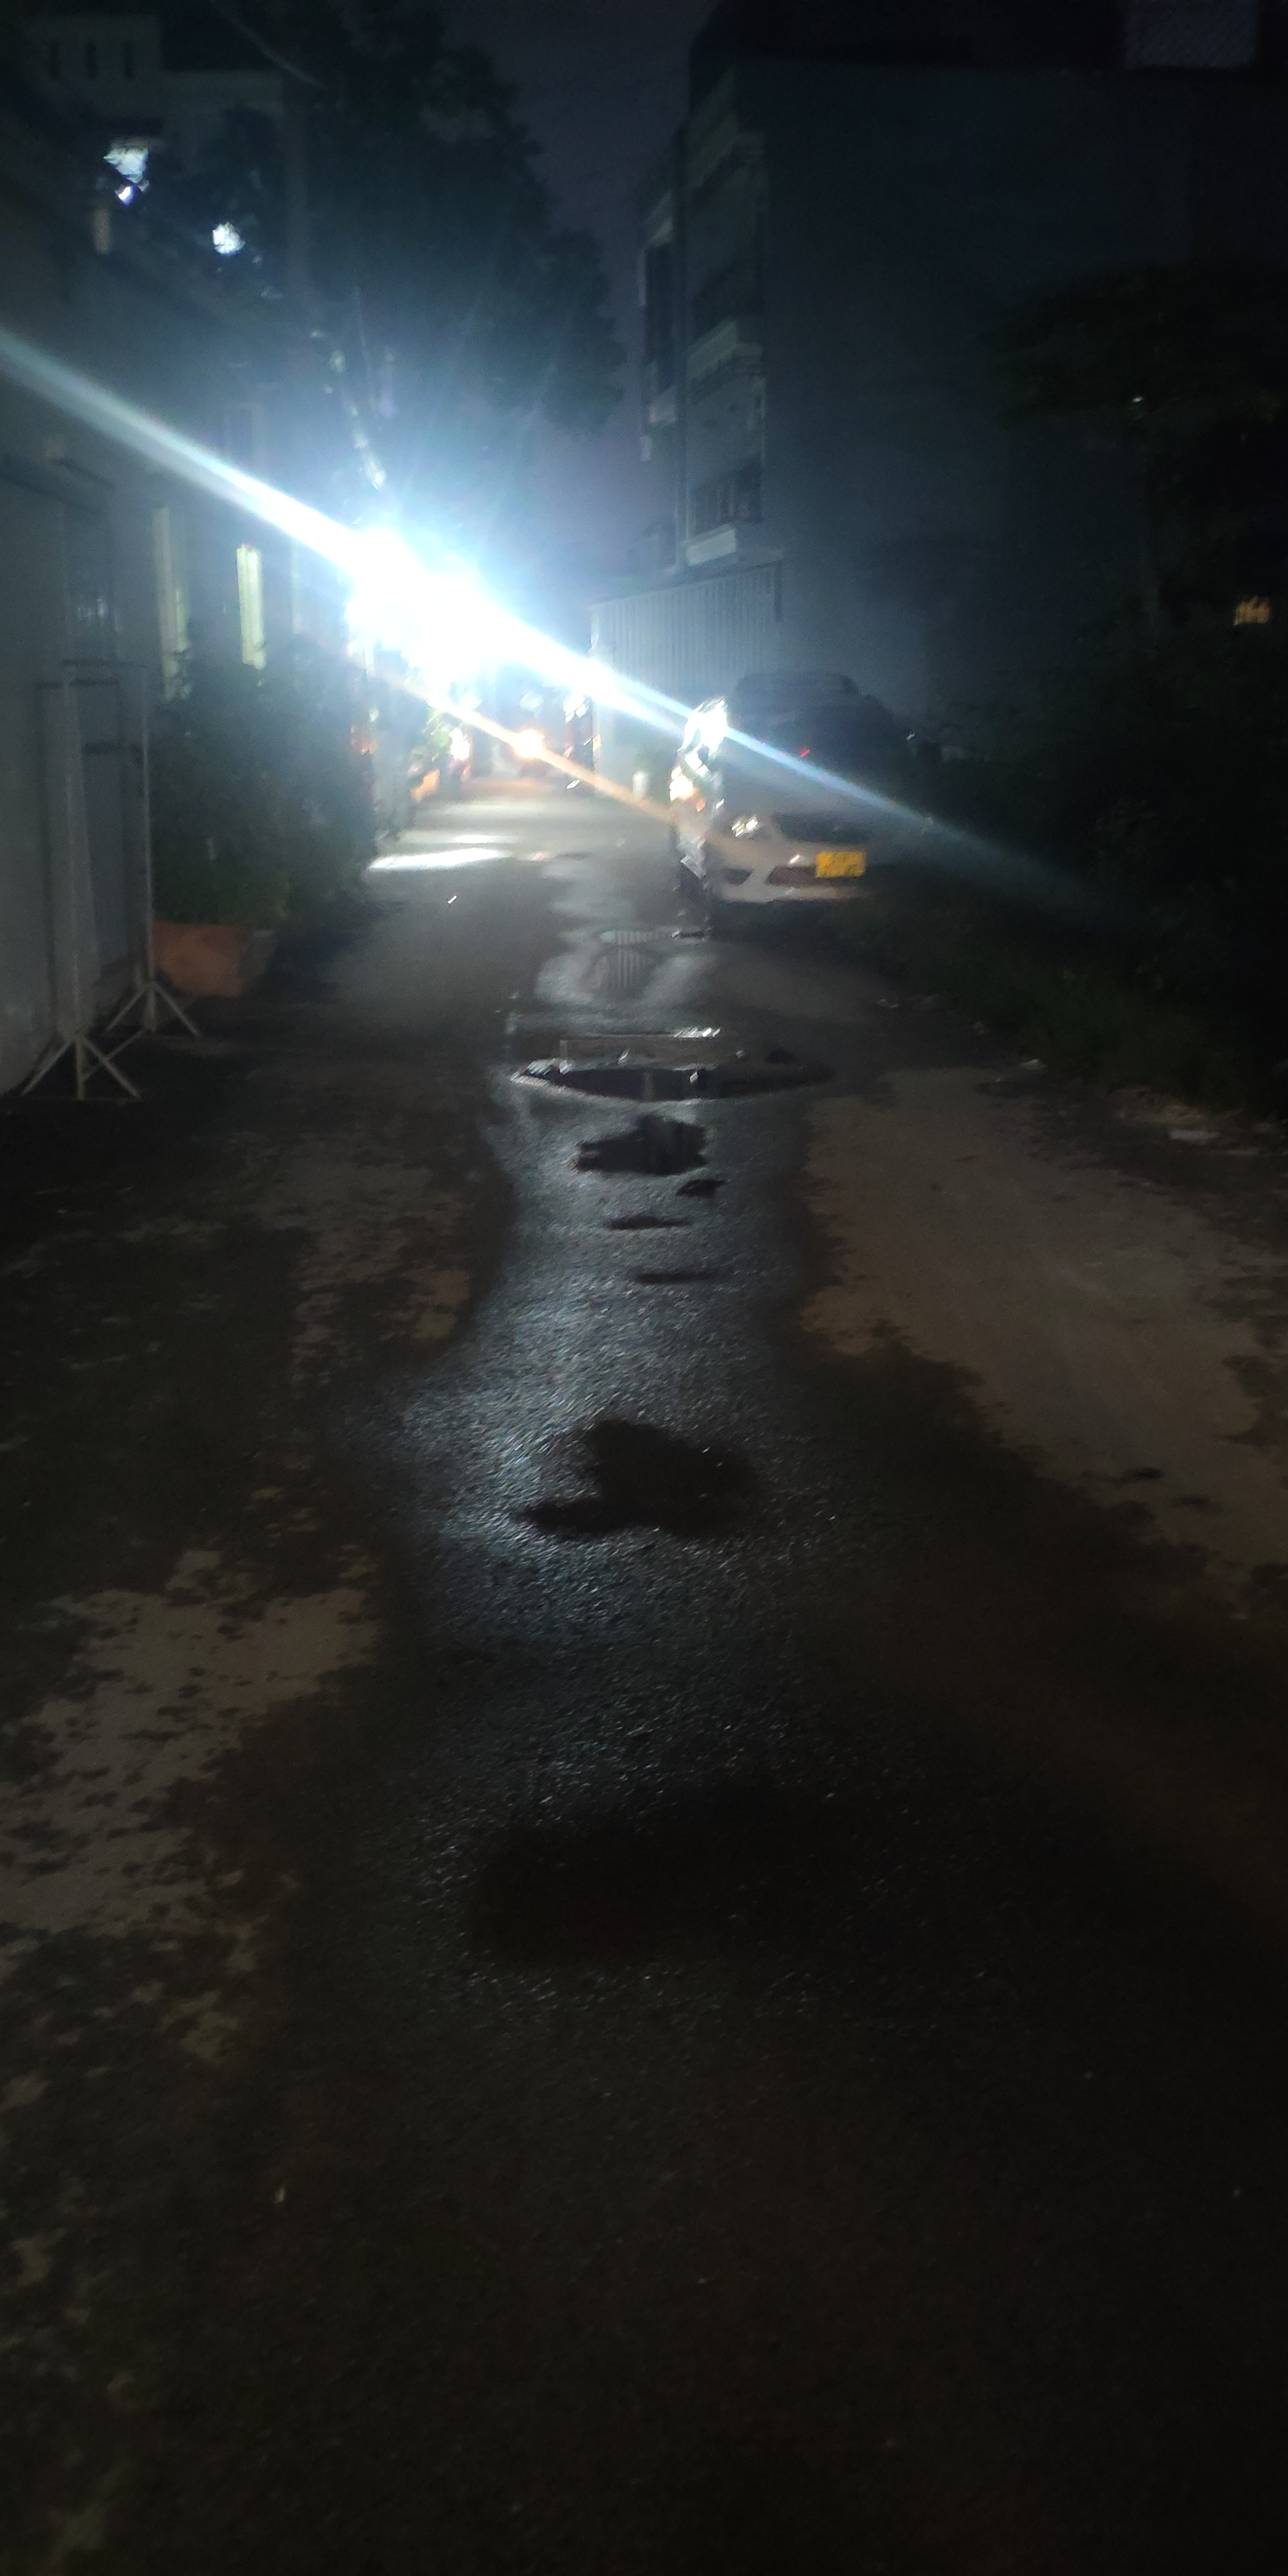hole: (429, 1699, 895, 2031), (476, 1400, 851, 1587), (506, 1061, 851, 1104), (563, 1111, 724, 1180), (573, 951, 670, 1012), (616, 1262, 749, 1296), (578, 1211, 700, 1240), (585, 922, 670, 950)
